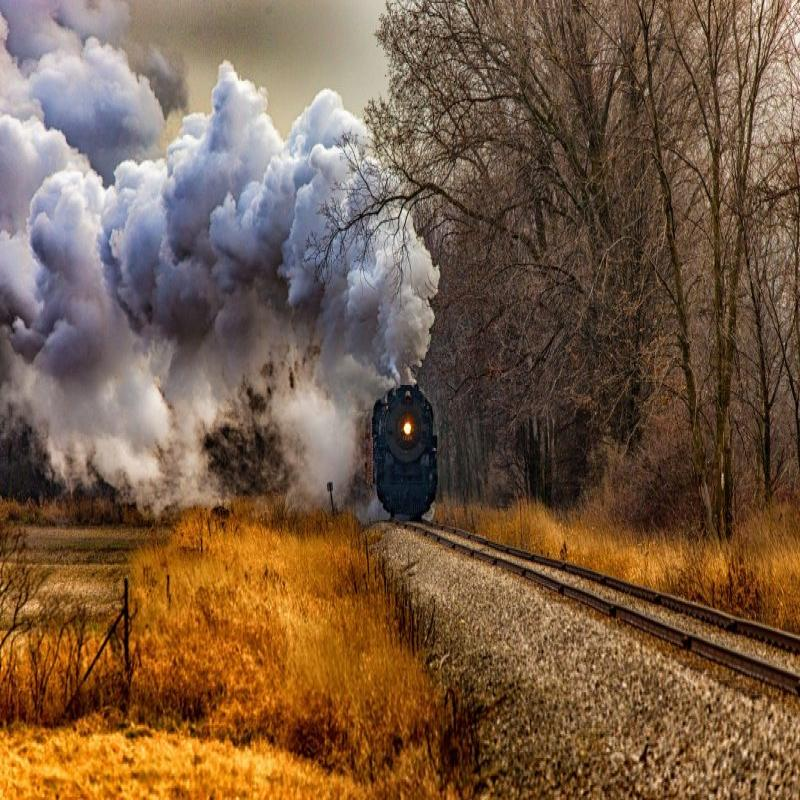train: (367, 369, 438, 531)
